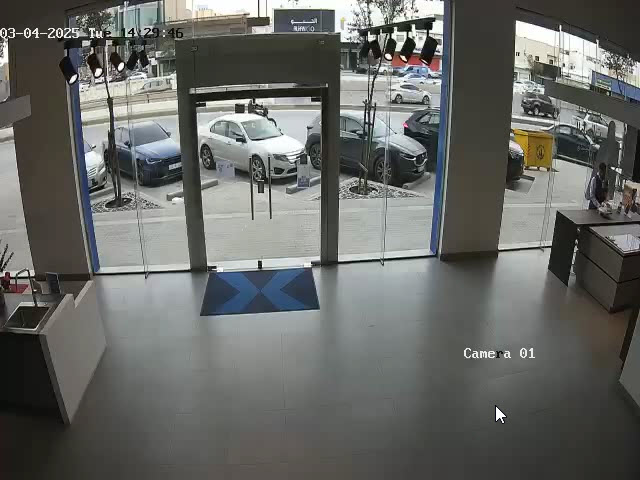male: (581, 158, 617, 216)
other: (594, 110, 638, 165)
